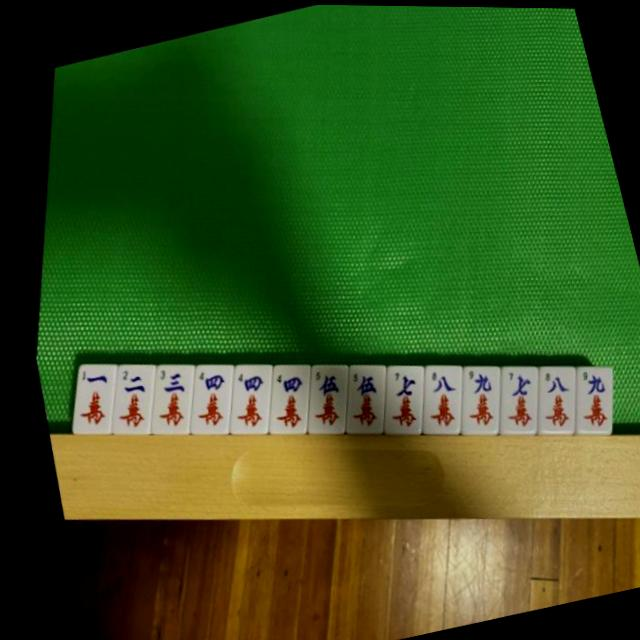sc1: (53, 356, 124, 439)
sc2: (89, 355, 167, 443)
sc3: (131, 355, 205, 441)
sc4: (169, 355, 245, 442), (209, 354, 283, 442), (248, 355, 322, 441)
sc5: (325, 355, 397, 441), (287, 356, 359, 442)
sc7: (363, 357, 436, 442), (480, 357, 551, 441)
sc8: (517, 357, 588, 441), (402, 357, 473, 441)
sc9: (440, 357, 512, 443), (555, 357, 625, 443)
